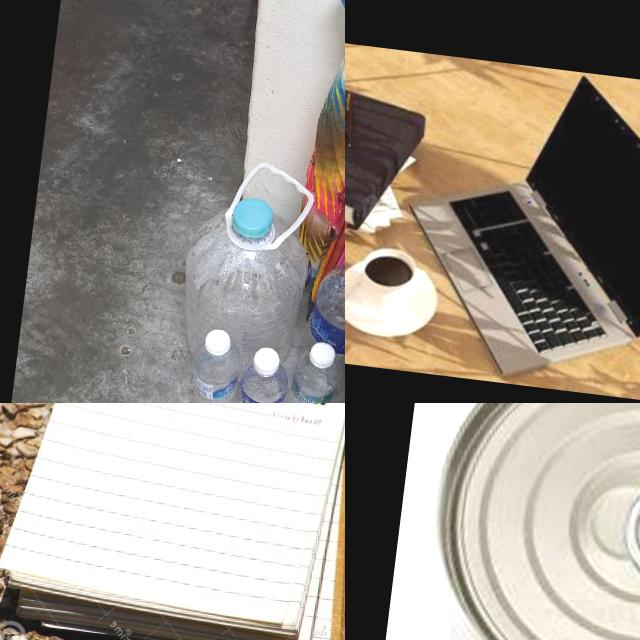garrafa plástica: (175, 206, 313, 397), (293, 264, 345, 389), (182, 330, 244, 403), (284, 340, 339, 403), (230, 358, 293, 403)
lata: (390, 403, 640, 640)
papel: (0, 403, 345, 640), (345, 71, 429, 258)
tampa plástica: (230, 193, 275, 241), (248, 341, 282, 380), (200, 325, 233, 358), (305, 338, 335, 374)
